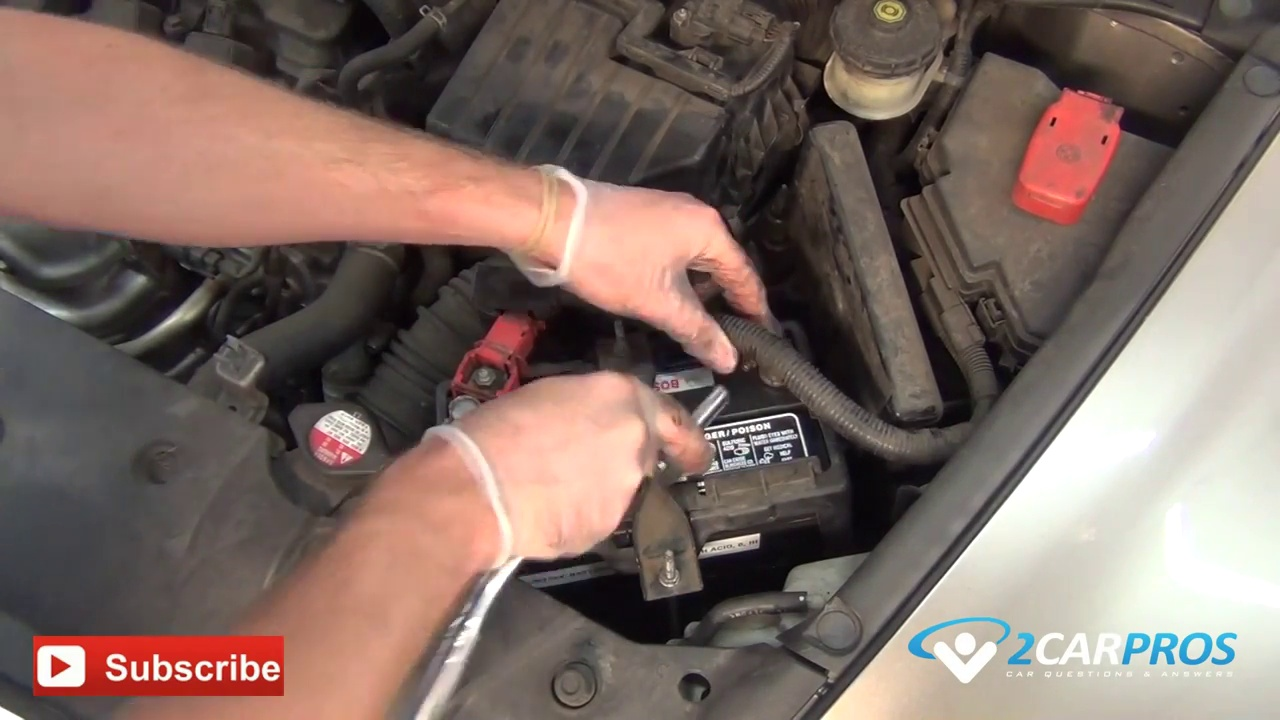battery: (416, 312, 852, 587)
pos_touched: (424, 306, 572, 438)
